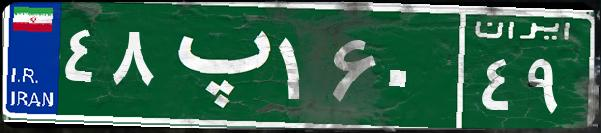0: (385, 28, 445, 110)
1: (273, 28, 330, 110)
4: (57, 26, 110, 107), (475, 38, 525, 113)
6: (330, 28, 385, 110)
8: (110, 28, 158, 105)
9: (525, 38, 570, 115)
پ: (158, 15, 273, 115)
